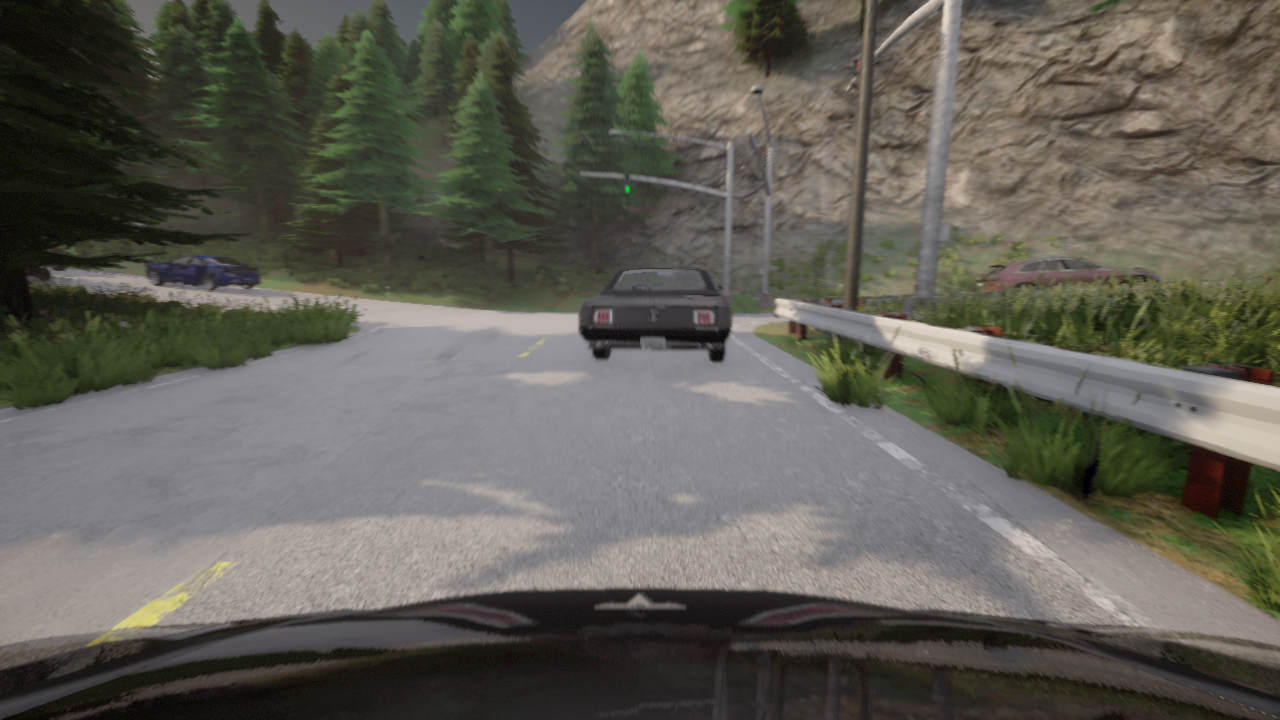cyclist: (0, 588, 1279, 719), (578, 267, 730, 361), (971, 256, 1160, 291), (146, 255, 259, 290), (46, 243, 65, 270), (25, 262, 49, 281)
